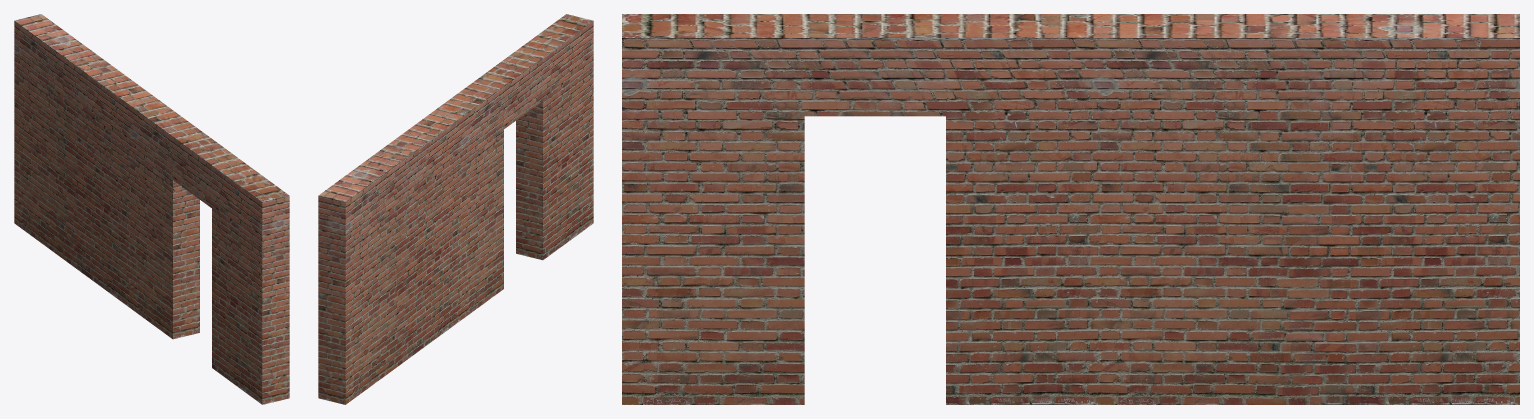
The model's file is Wall 2.FBX.
The picture shows the model from 3 angles, left to right: view 1: azimuth 30°, elevation 25°; view 2: azimuth 150°, elevation 25°; view 3: azimuth 270°, elevation 25°; orthographic projection. The views are drawn at different scales.
Visible parts, largest first — view 1: Wall 2; view 2: Wall 2; view 3: Wall 2.
Boxes of the visible parts, left/top/right/bottom form: Wall 2: left=14, top=14, right=289, bottom=404; Wall 2: left=318, top=14, right=593, bottom=404; Wall 2: left=622, top=14, right=1519, bottom=404.
Bounding box in the file's own units: 38.18 × 272 × 604.
Materials: 1 (1 with a texture image).
